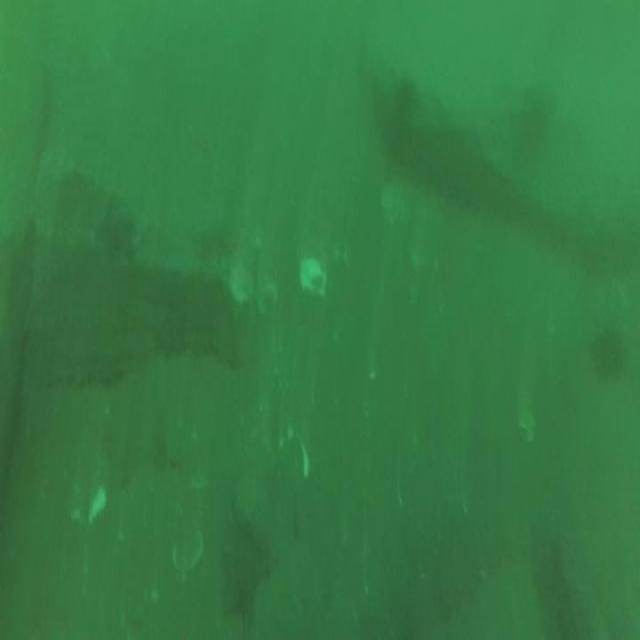starfish: (215, 518, 274, 628)
